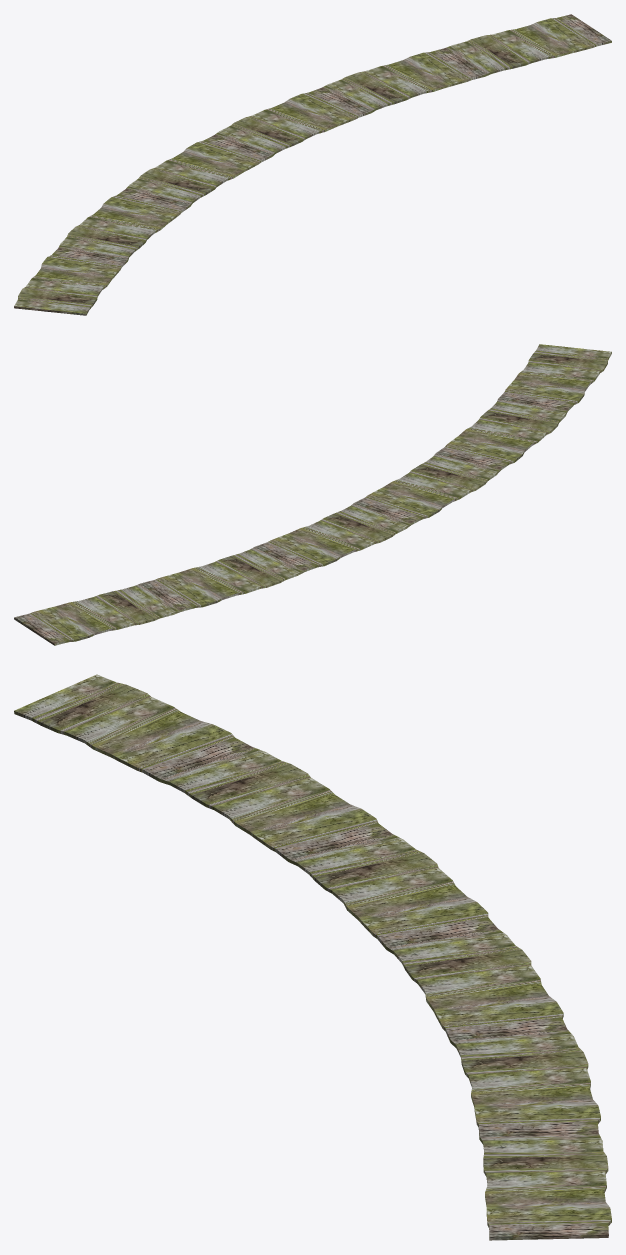
3 renders of one model, top to bottom at view 1: azimuth 30°, elevation 25°; view 2: azimuth 210°, elevation 25°; view 3: azimuth 270°, elevation 25°, orthographic. The views are drawn at different scales.
Parts seen in each view (by area): view 1: ramp.010; view 2: ramp.010; view 3: ramp.010.
Part boxes in pixels (left/top/right/bottom): ramp.010: left=14, top=14, right=611, bottom=315; ramp.010: left=14, top=344, right=611, bottom=645; ramp.010: left=14, top=674, right=611, bottom=1240.
Bounding box in the file's own units: 437 × 1.18 × 196.
